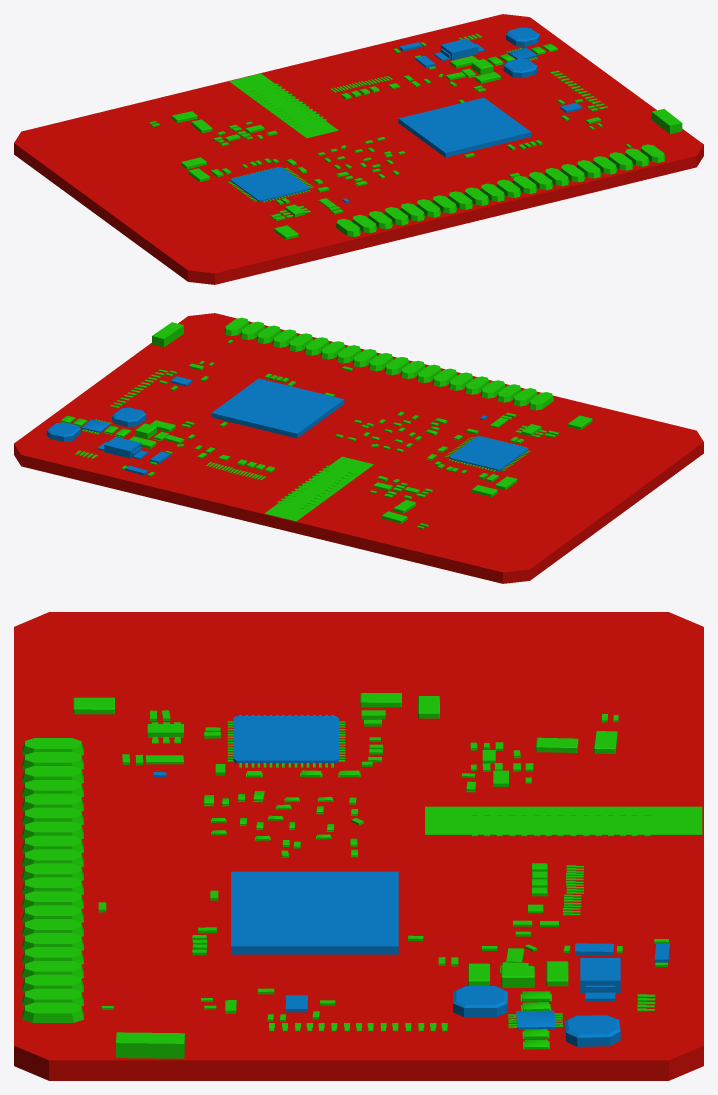
The model's file is CartoonRobot_high.fbx.
3 views of the same model, one above another, from view 1: azimuth 30°, elevation 25°; view 2: azimuth 150°, elevation 25°; view 3: azimuth 270°, elevation 25° (orthographic). The views are drawn at different scales.
Parts seen in each view (by area): view 1: Pi1_high; view 2: Pi1_high; view 3: Pi1_high.
Boxes of the visible parts, x1,y1,x2,y2 form: Pi1_high: (14,14,703,284); Pi1_high: (14,313,703,583); Pi1_high: (14,612,703,1080).
Size of the model in its own units: 327 by 13.43 by 213.
